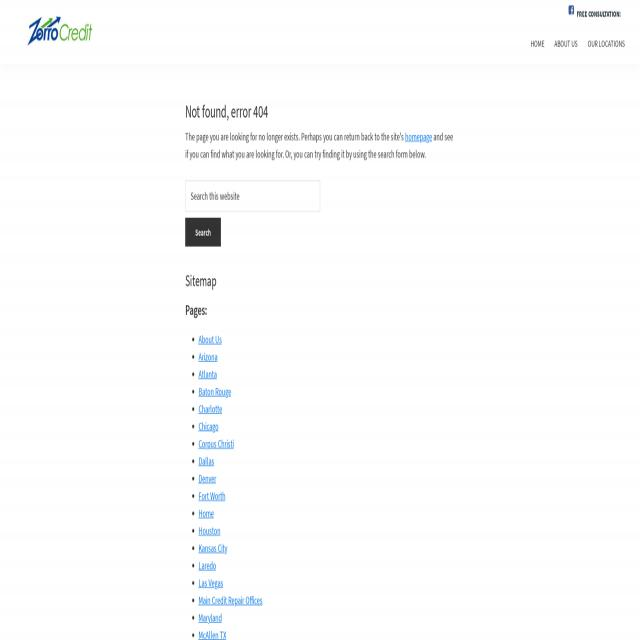button: (27, 13, 93, 47), (583, 32, 628, 56), (185, 218, 221, 246), (549, 31, 583, 55), (526, 31, 549, 55), (568, 6, 574, 16)
field: (185, 180, 320, 212)
